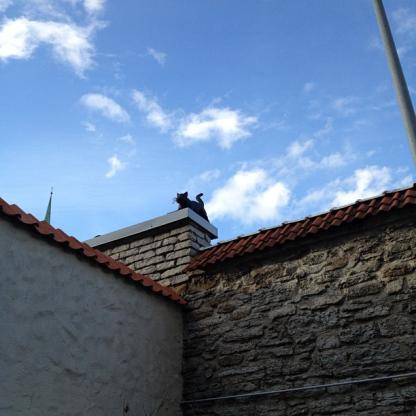Target: (171, 187, 214, 225)
